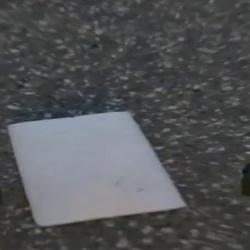Litter: (8, 111, 186, 225)
